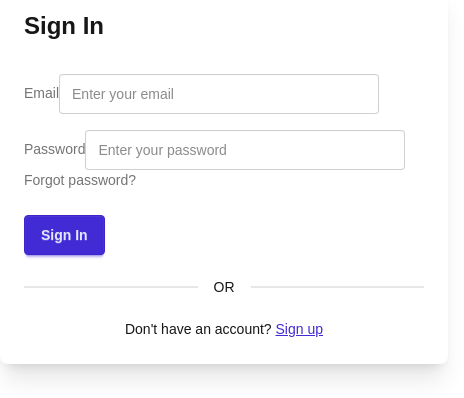
Test: LoginForm › Form Validation › shows error for password less than 6 characters
The image size is (464, 398).
Type "test@example.com" into the field with placeholder "Enter your email" at (219, 94), box left=59, top=74, right=379, bottom=114
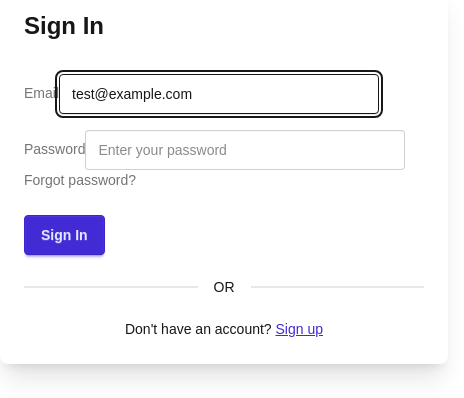
Type "12345" into the password field with placeholder "Enter your password" at (246, 150), box left=86, top=130, right=406, bottom=170
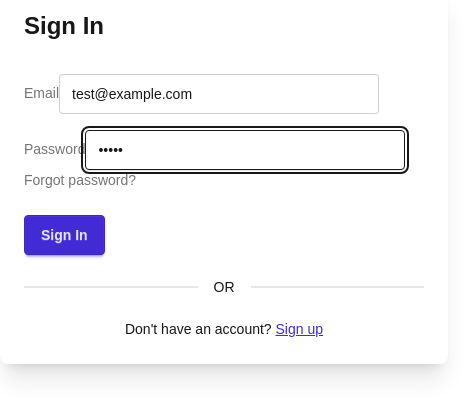
Click the button "Sign In" at (64, 235), box left=24, top=215, right=105, bottom=255
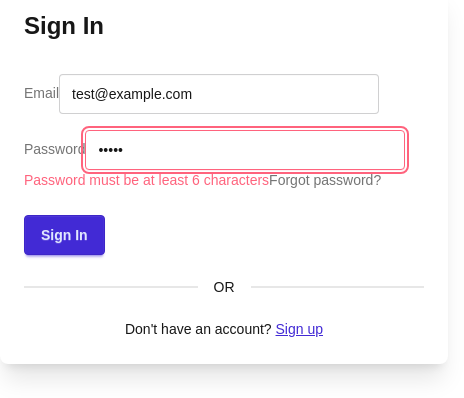
Expected: the text "Password must be at least 6 characters" is shown, left=24, top=170, right=269, bottom=191
